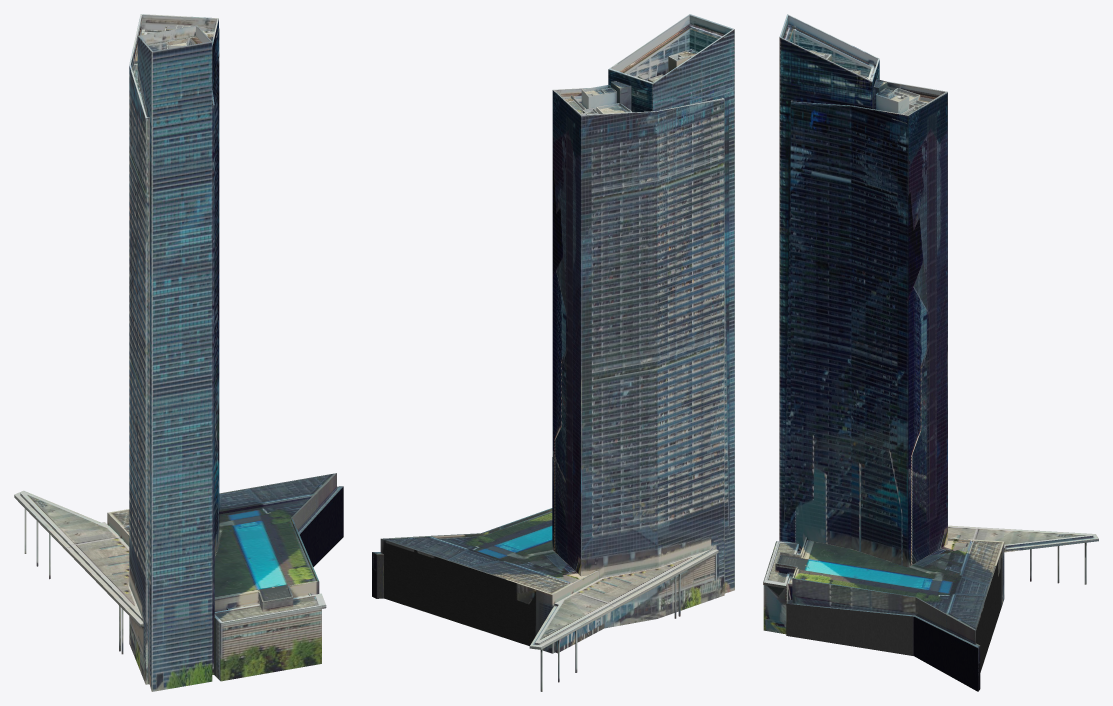
The picture shows the model from 3 angles, left to right: view 1: azimuth 30°, elevation 25°; view 2: azimuth 150°, elevation 25°; view 3: azimuth 270°, elevation 25°; orthographic projection. The views are drawn at different scales.
Parts seen in each view (by area): view 1: 3_0.glb; view 2: 3_0.glb; view 3: 3_0.glb.
Part boxes in pixels (<box>): 3_0.glb: <box>14,14,343,691</box>; 3_0.glb: <box>372,14,734,691</box>; 3_0.glb: <box>763,14,1098,691</box>.
Size of the model in its own units: 110 by 223 by 123.
1 material, 1 textured.
